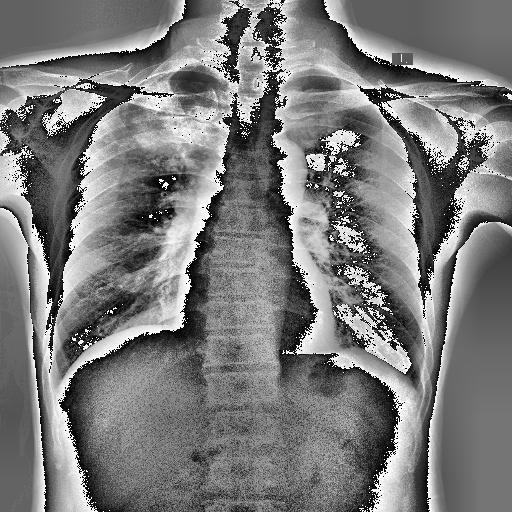8- Nodule-Mass: (128, 81, 224, 155), (114, 94, 218, 156), (131, 81, 216, 154)
